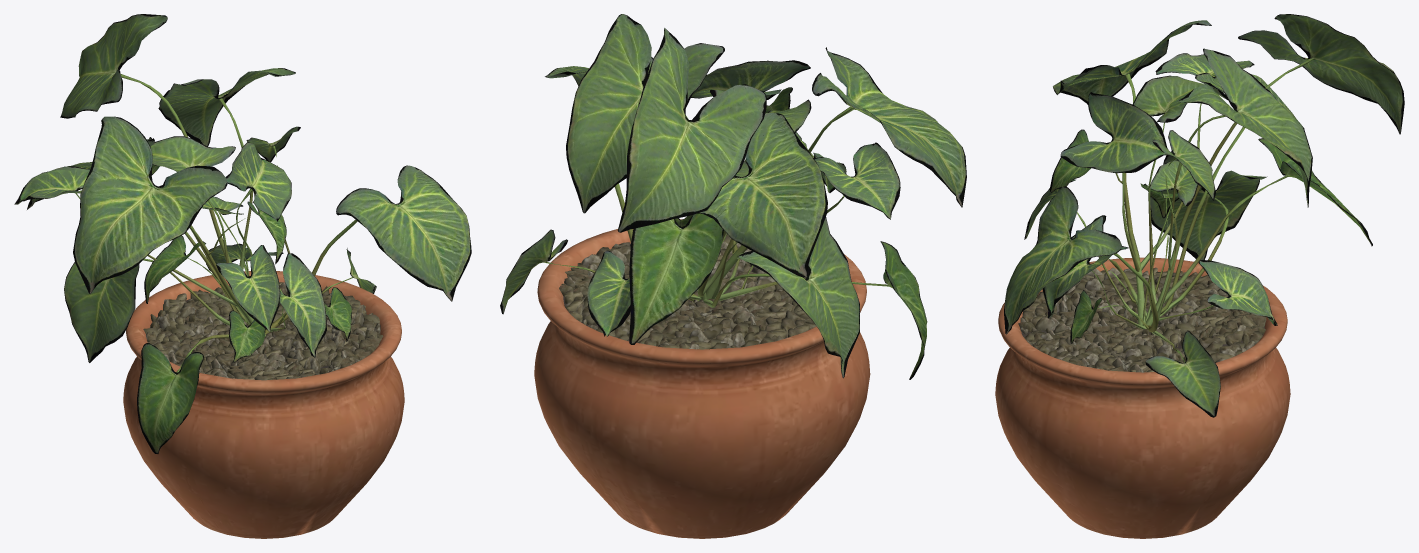
Rendered from potted_plant_02.glb.
The picture shows the model from 3 angles, left to right: view 1: azimuth 30°, elevation 25°; view 2: azimuth 150°, elevation 25°; view 3: azimuth 270°, elevation 25°; orthographic projection. The views are drawn at different scales.
Parts seen in each view (by area): view 1: potted_plant_02_leaves, potted_plant_02_pot; view 2: potted_plant_02_leaves, potted_plant_02_pot; view 3: potted_plant_02_pot, potted_plant_02_leaves.
Boxes of the visible parts, x1=… form: potted_plant_02_leaves: x1=14, y1=14, x2=471, y2=453; potted_plant_02_pot: x1=123, y1=271, x2=404, y2=538; potted_plant_02_leaves: x1=500, y1=14, x2=966, y2=379; potted_plant_02_pot: x1=534, y1=219, x2=870, y2=538; potted_plant_02_pot: x1=995, y1=257, x2=1290, y2=538; potted_plant_02_leaves: x1=1004, y1=14, x2=1404, y2=417.
Bounding box in the file's own units: 0.7009 × 0.8412 × 0.6574.
2 materials, 2 textured.
